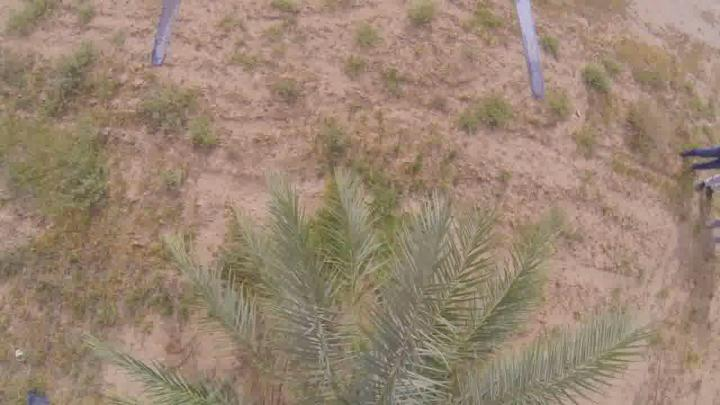Date-Palm-Crown: (239, 272, 539, 404)
